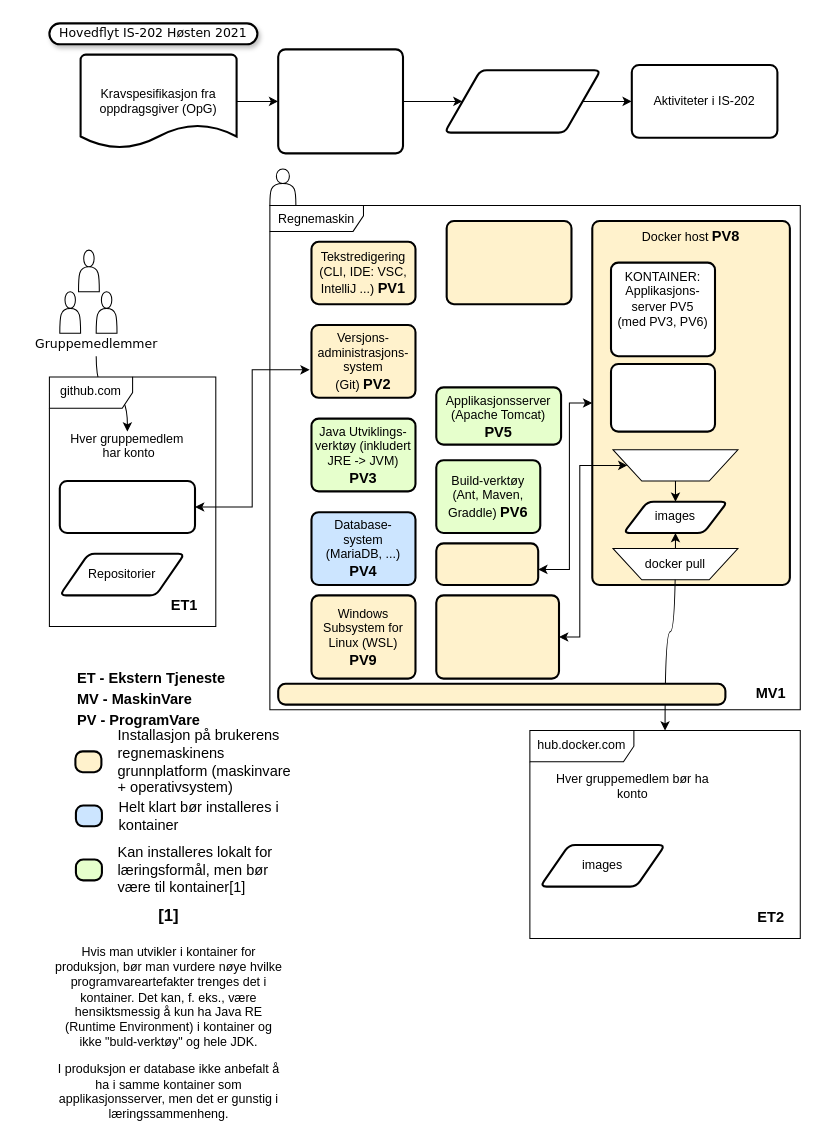
The diagram is 818 pixels wide and 1143 high, and some of its shapes have lost their labels. The centre of each missing label's shape, as x and y in pixels:
"Aktiviteter i IS-200 og IS-201" goes at point (340, 101).
"CLI (Powershell, Terminal (bash, zsh), cmd, gjennom WSL ...) PV10" goes at point (497, 636).
"docker build docker run" goes at point (675, 465).
"Docker Desktop PV8" goes at point (487, 564).
"Git" goes at point (127, 506).
"KONTAINER: Databaseserver PV4" goes at point (662, 397).
"Nettleser (Google Chrome, Firefox, Safari, Opera) PV7" goes at point (508, 262).
"Operativsystem (macOS, Windows 10, Linux, FreeBSD, Unix) PV11" goes at point (501, 693).
"Systemmodell, systemarkitektur" goes at point (522, 101).
